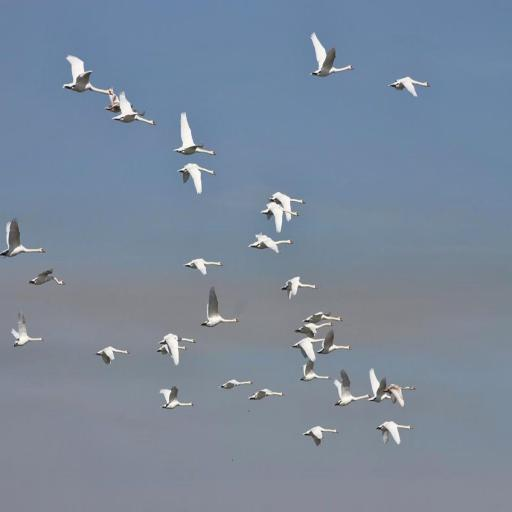birds: (307, 28, 356, 82), (61, 50, 115, 99), (173, 109, 220, 158), (198, 284, 241, 333), (0, 219, 46, 261), (112, 90, 159, 130), (332, 369, 371, 413), (249, 228, 296, 263), (161, 323, 198, 367), (389, 64, 431, 101), (10, 309, 46, 352), (175, 161, 218, 196), (269, 186, 308, 223), (280, 272, 320, 303), (261, 202, 299, 234), (377, 415, 415, 447), (95, 341, 132, 370), (157, 384, 195, 412), (385, 379, 419, 410), (28, 265, 67, 292), (318, 327, 353, 357), (296, 357, 333, 385), (293, 334, 328, 363), (301, 422, 340, 447), (184, 255, 225, 278), (219, 373, 254, 396), (303, 308, 345, 326), (247, 388, 287, 403)
